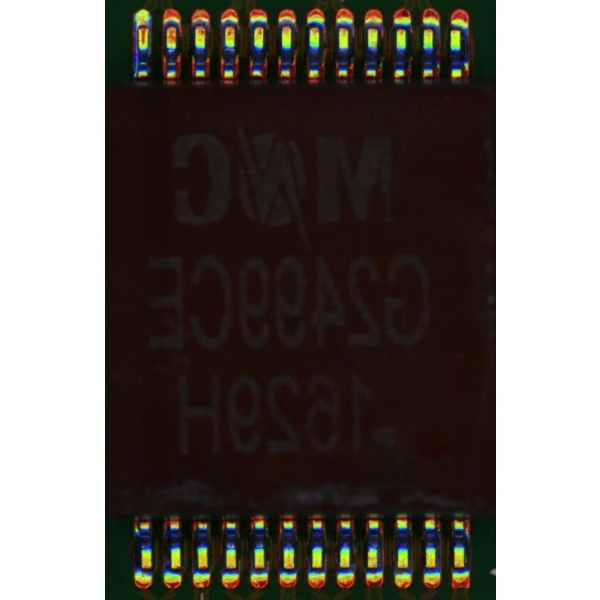Bad_podu: (138, 17, 148, 33)
Bad_qiaojiao: (134, 29, 139, 77)
